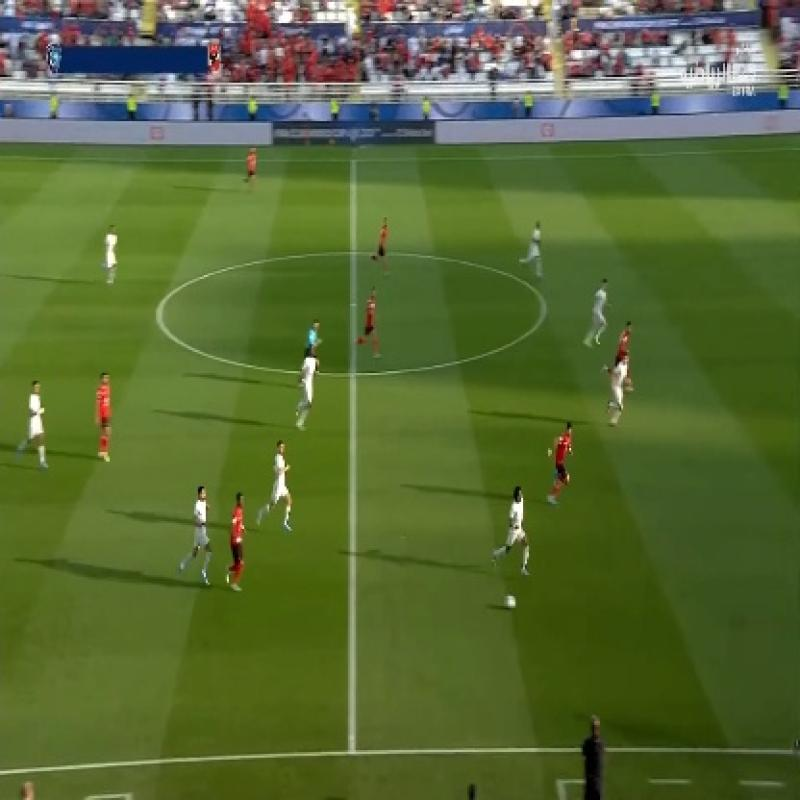13: (344, 144, 364, 171)
14: (340, 238, 366, 268)
15: (338, 354, 366, 392)
16: (334, 723, 372, 771)
c: (140, 297, 176, 332), (525, 294, 560, 324)
